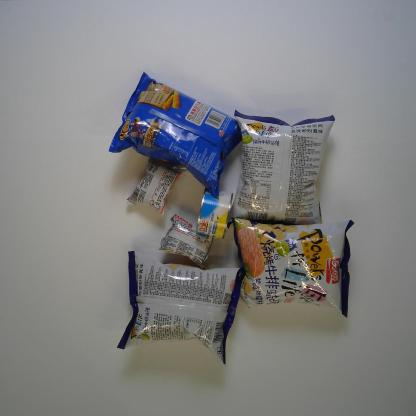Canned Food: (196, 186, 236, 242)
Dessert: (126, 158, 188, 219), (159, 212, 215, 269)
Puffed Food: (107, 69, 244, 200), (115, 249, 248, 368), (227, 214, 355, 320), (230, 107, 335, 225)
